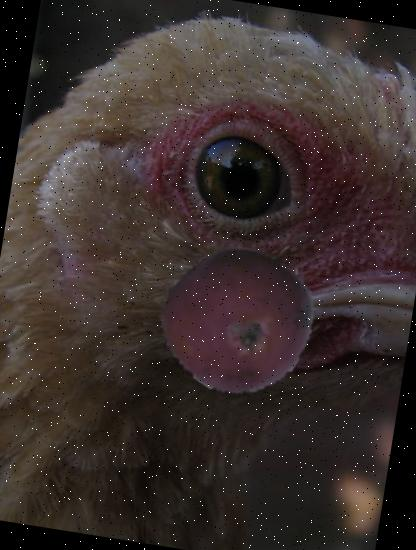Pomegranate: (154, 236, 322, 404)
